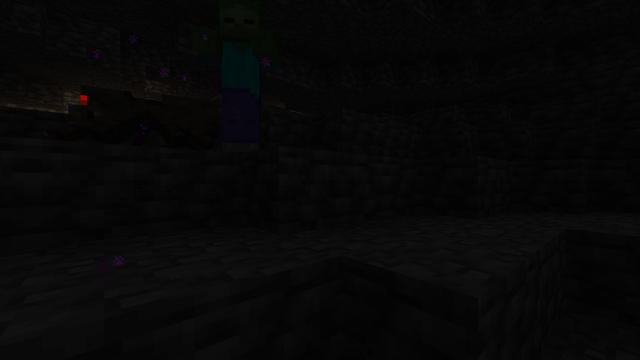araignees: (80, 61, 206, 146)
zombies: (213, 0, 271, 154)
